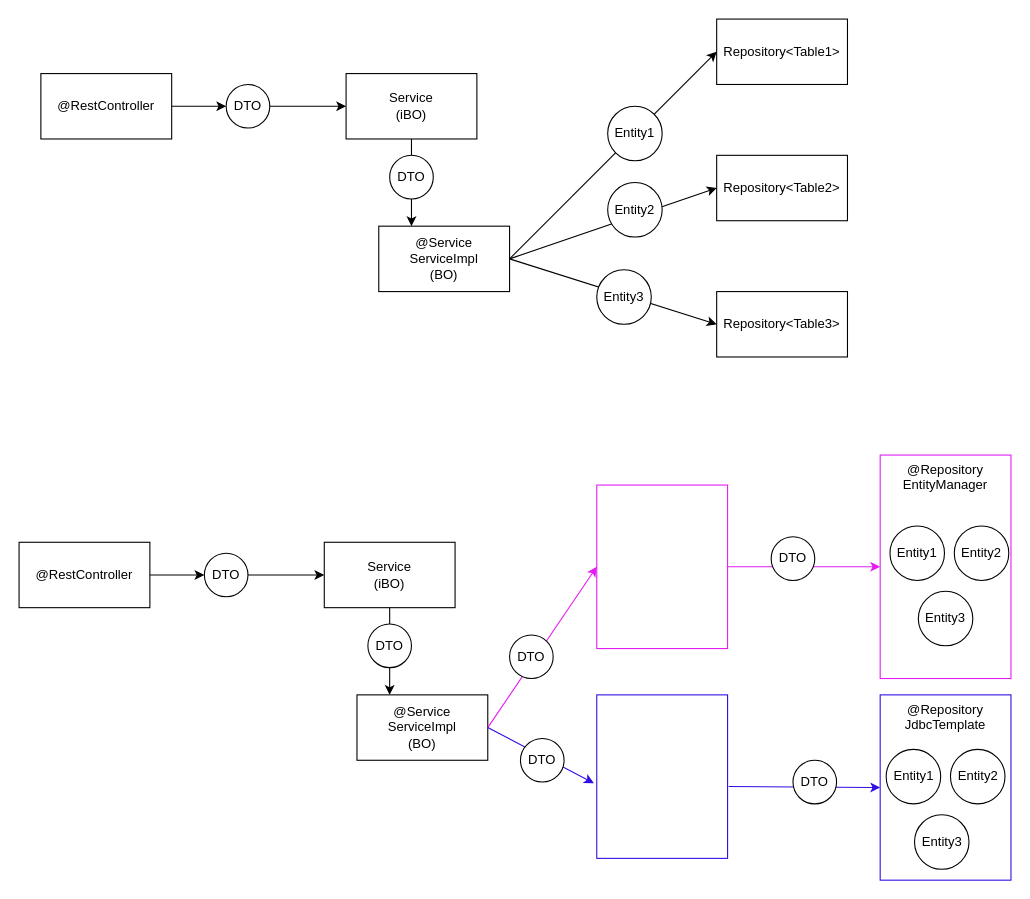
Image size: 1030x899. Some labels were removed from this diagram. The shapes that lost their labels are listed below. From the top down, each one's centre as x and y in pixels, then its label:
At point (662, 566): "Repository (i-DAO)".
At point (662, 776): "JdbcRepository (i-DAO)".
